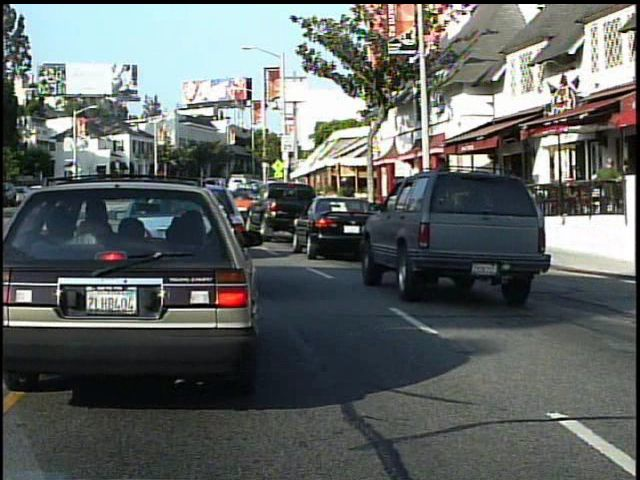person: (590, 151, 624, 235)
